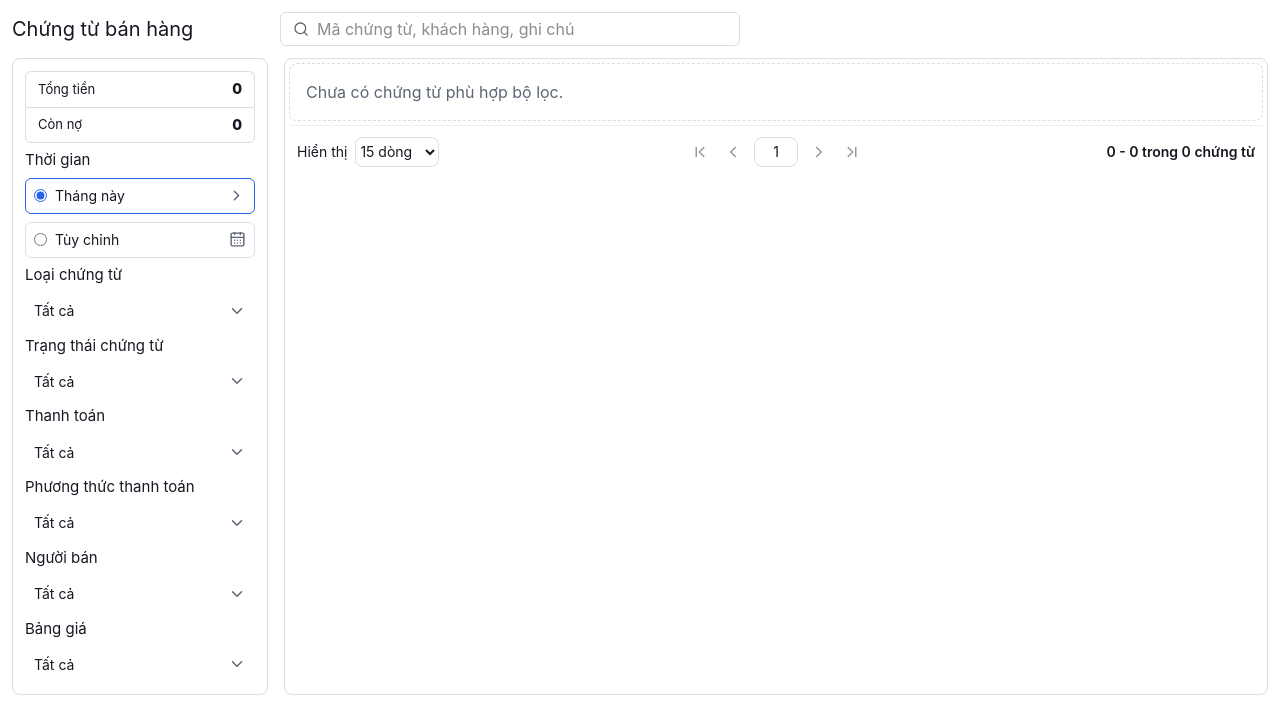
Test: searches by document code and keeps filtered empty state clear
Expected: the text "Chưa có chứng từ phù hợp bộ lọc." is shown, [306,82,563,102]
Type "HD010985" into the field named "Tìm chứng từ".
click(510, 29); type("HD010985")  # box [281,13,739,45]
Then press Enter
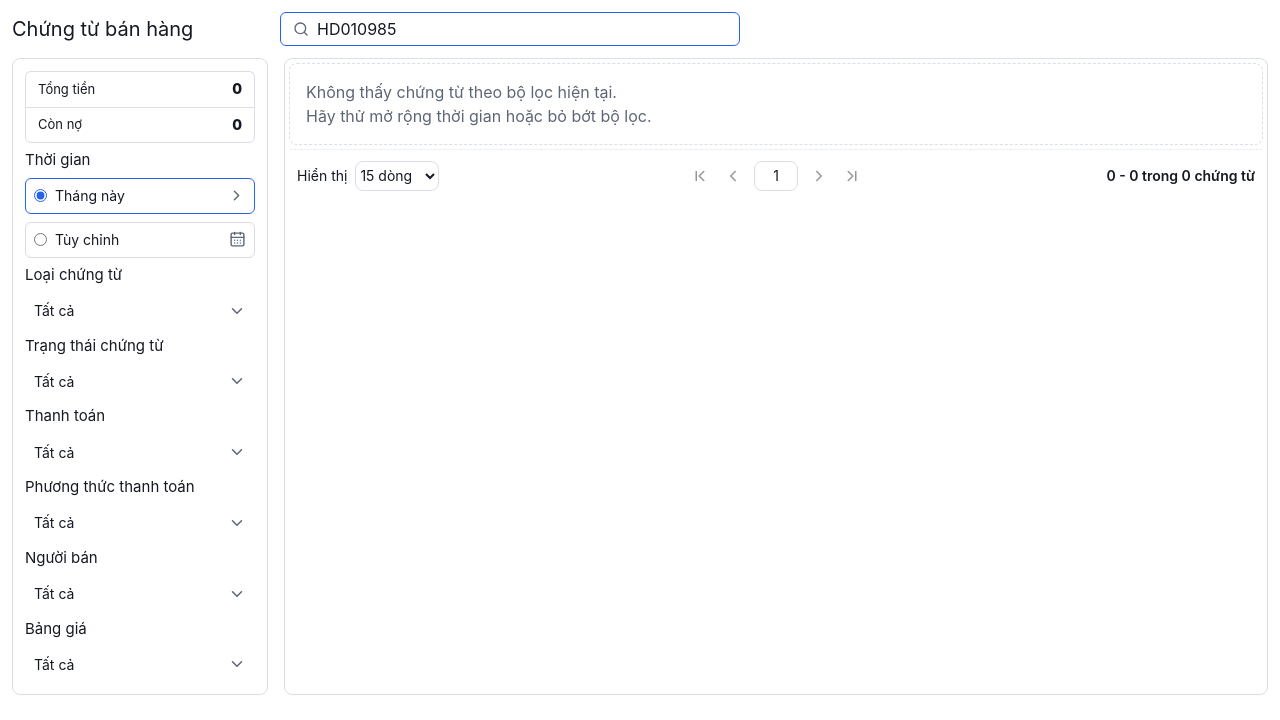
Now the text "Không thấy chứng từ theo bộ lọc hiện tại." is shown, box [306,82,617,102]
Now the text "Hãy thử mở rộng thời gian hoặc bỏ bớt bộ lọc." is shown, box [306,106,652,126]
